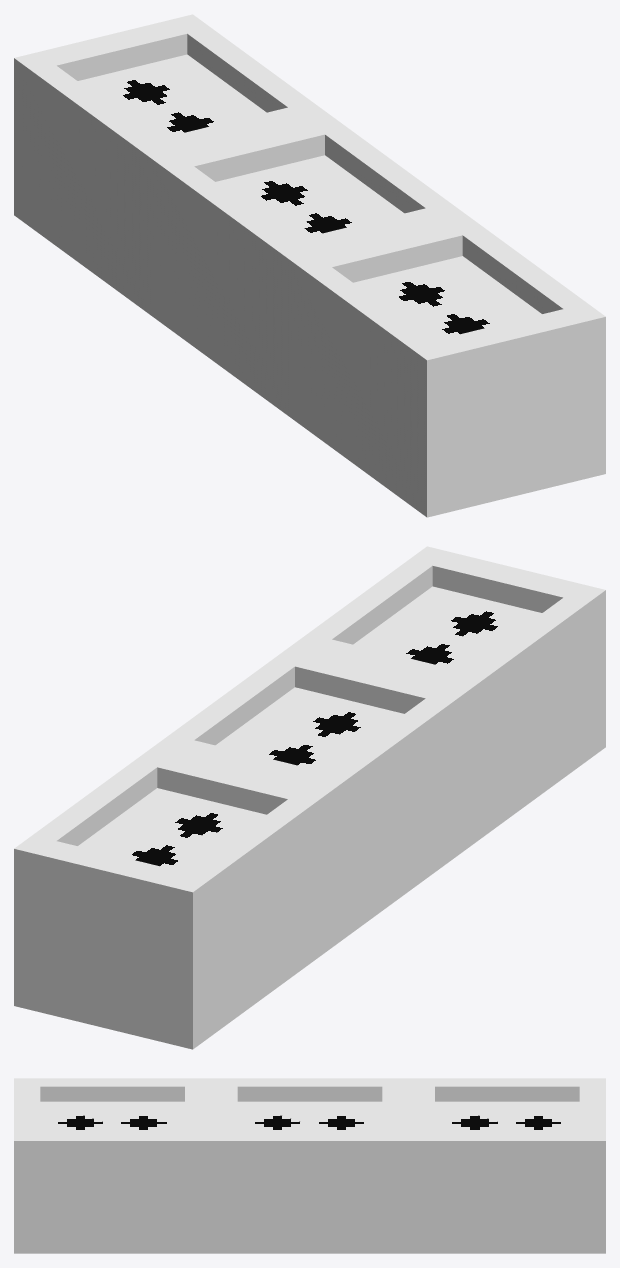
File: extension_cable.glb
The picture shows the model from 3 angles, top to bottom: view 1: azimuth 30°, elevation 25°; view 2: azimuth 150°, elevation 25°; view 3: azimuth 270°, elevation 25°; orthographic projection. The views are drawn at different scales.
Parts seen in each view (by area): view 1: Extension Cable; view 2: Extension Cable; view 3: Extension Cable.
Boxes of the visible parts, x1=… form: Extension Cable: x1=14, y1=14, x2=605, y2=517; Extension Cable: x1=14, y1=546, x2=605, y2=1049; Extension Cable: x1=14, y1=1078, x2=605, y2=1253.
Size of the model in its own units: 0.119 by 0.1 by 0.4762.
1 material, 1 textured.
